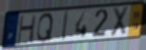2: (92, 8, 110, 39)
4: (74, 9, 89, 40)
H: (16, 14, 38, 44)
I: (61, 9, 70, 42)
Q: (35, 12, 54, 44)
X: (109, 5, 130, 38)
